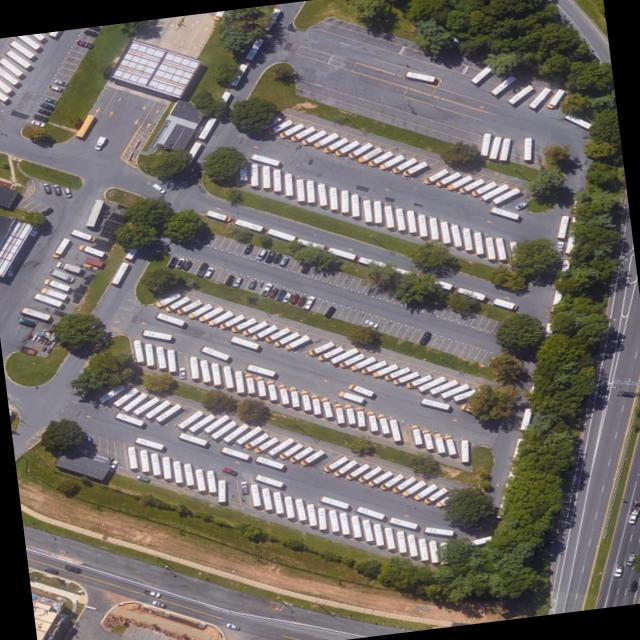large-vehicle: (82, 197, 105, 226), (176, 408, 204, 428), (203, 412, 230, 432), (506, 83, 533, 103), (97, 383, 125, 402), (132, 395, 160, 414), (154, 402, 182, 421), (527, 85, 551, 107), (491, 185, 520, 203), (144, 398, 170, 418), (490, 74, 516, 94), (188, 412, 215, 431), (235, 424, 262, 443), (112, 386, 139, 405), (250, 322, 278, 340), (481, 181, 509, 199), (469, 63, 494, 83), (210, 419, 236, 438), (222, 422, 248, 441), (121, 391, 147, 410), (563, 111, 592, 128), (267, 436, 294, 454), (312, 130, 339, 148), (300, 127, 327, 145), (428, 377, 458, 393), (5, 48, 30, 67), (391, 474, 416, 493), (8, 39, 34, 57), (401, 478, 427, 496), (299, 447, 325, 465), (344, 461, 370, 479), (422, 166, 448, 184), (329, 346, 358, 362), (244, 36, 264, 59), (241, 318, 268, 335), (263, 325, 290, 342), (206, 309, 233, 326), (197, 304, 224, 321), (186, 301, 213, 318), (163, 294, 190, 311), (401, 159, 428, 176), (470, 179, 497, 196), (228, 61, 247, 85), (197, 115, 216, 139), (75, 112, 94, 136), (347, 140, 372, 158), (288, 444, 313, 462), (332, 458, 357, 476), (357, 464, 382, 482), (379, 472, 404, 490), (412, 482, 437, 500), (422, 485, 447, 503), (306, 339, 334, 355), (337, 351, 365, 367), (265, 118, 293, 134), (417, 374, 445, 390), (154, 290, 180, 307), (356, 145, 382, 162), (391, 155, 417, 172), (278, 121, 304, 138), (243, 431, 269, 448), (252, 435, 278, 452), (322, 454, 348, 471), (322, 135, 348, 152), (200, 344, 229, 359), (33, 291, 62, 306), (440, 382, 469, 397), (489, 205, 520, 219), (218, 312, 245, 328), (272, 330, 299, 346), (283, 333, 310, 349), (317, 344, 344, 360), (367, 149, 394, 165), (289, 124, 316, 140), (349, 354, 376, 370), (371, 361, 398, 377), (446, 173, 473, 189), (434, 170, 461, 186), (278, 441, 303, 458), (334, 138, 359, 155), (229, 316, 257, 331), (346, 381, 374, 396), (20, 305, 50, 319), (114, 411, 144, 425), (359, 358, 387, 373), (383, 365, 411, 380), (391, 369, 419, 384), (0, 56, 22, 75), (378, 153, 404, 169), (367, 469, 393, 485), (458, 177, 484, 193), (262, 6, 280, 29), (155, 311, 184, 325), (220, 445, 249, 459), (255, 454, 284, 468), (254, 472, 283, 486), (355, 504, 384, 518), (134, 435, 163, 449), (326, 245, 355, 259), (452, 386, 481, 400), (266, 226, 295, 240), (175, 298, 202, 313), (405, 372, 432, 387), (387, 515, 418, 528), (51, 236, 70, 257), (546, 87, 565, 108), (77, 242, 105, 256), (111, 260, 128, 283), (455, 286, 485, 299), (39, 285, 66, 299), (230, 335, 259, 348), (250, 152, 279, 165), (178, 431, 207, 444), (320, 494, 349, 507), (357, 255, 386, 268), (420, 396, 449, 409), (234, 217, 263, 230), (70, 227, 96, 241), (295, 237, 325, 249), (43, 276, 70, 289), (54, 259, 81, 272), (246, 363, 275, 375), (404, 70, 435, 81), (337, 389, 363, 402), (205, 208, 231, 221), (50, 267, 74, 281), (491, 296, 517, 308), (0, 67, 18, 84), (488, 135, 501, 158), (556, 214, 569, 237), (450, 223, 463, 246), (142, 328, 171, 338), (260, 485, 272, 509), (443, 432, 456, 454), (361, 517, 373, 540), (372, 521, 384, 544), (498, 136, 510, 159), (388, 417, 400, 440), (272, 489, 283, 513), (338, 510, 349, 534), (350, 513, 361, 537), (396, 528, 407, 552), (520, 407, 532, 429), (416, 212, 427, 236), (366, 408, 378, 430), (199, 358, 210, 381), (155, 344, 166, 367), (294, 496, 305, 519), (194, 467, 205, 490), (249, 482, 260, 505), (283, 494, 294, 517), (306, 502, 317, 525), (327, 507, 338, 530), (406, 532, 417, 555), (417, 536, 428, 559), (427, 539, 438, 562), (149, 451, 160, 474), (205, 468, 216, 491), (394, 206, 405, 229), (383, 204, 394, 227), (439, 219, 450, 242), (495, 236, 506, 259), (484, 235, 495, 258), (461, 226, 472, 249), (410, 422, 422, 443), (377, 411, 389, 432), (182, 462, 193, 484), (223, 363, 233, 387), (406, 208, 416, 232), (428, 215, 438, 239), (424, 526, 453, 534), (277, 382, 288, 403), (288, 385, 299, 406), (422, 427, 433, 448), (434, 431, 445, 452), (321, 395, 332, 416), (333, 401, 344, 422), (210, 361, 220, 384), (233, 369, 243, 392), (132, 338, 142, 361), (384, 525, 394, 548), (161, 455, 171, 478), (473, 230, 483, 253), (166, 348, 176, 370), (295, 178, 305, 200), (126, 445, 136, 467), (255, 375, 266, 395), (266, 379, 277, 399), (310, 393, 321, 413), (480, 132, 490, 154), (328, 185, 337, 209), (300, 388, 310, 409), (345, 402, 355, 423), (305, 178, 314, 201), (272, 167, 281, 190), (249, 162, 258, 185), (317, 506, 326, 529), (372, 199, 381, 222), (460, 438, 469, 461), (363, 198, 372, 221), (340, 188, 349, 211), (355, 405, 365, 425), (189, 355, 198, 377), (144, 342, 153, 364), (283, 172, 292, 194), (172, 459, 181, 481), (139, 448, 148, 470), (350, 193, 359, 215), (317, 182, 326, 204), (262, 163, 270, 187), (245, 371, 254, 392), (217, 478, 225, 501), (523, 136, 531, 159), (0, 79, 12, 92), (0, 91, 7, 101)
small-vehicle: (195, 261, 209, 276), (36, 99, 55, 110), (16, 316, 36, 326), (32, 105, 52, 115), (63, 562, 81, 573), (418, 330, 432, 344), (627, 506, 638, 523), (93, 135, 106, 149), (259, 282, 273, 295), (303, 294, 315, 309), (220, 465, 238, 475), (75, 37, 93, 47), (38, 205, 54, 216), (150, 181, 166, 192), (80, 27, 98, 36), (363, 317, 379, 327), (323, 305, 336, 317), (625, 551, 636, 565), (612, 562, 623, 576), (224, 621, 241, 630), (513, 200, 528, 210), (107, 459, 119, 471), (150, 598, 166, 607), (33, 112, 49, 121), (264, 250, 276, 262), (255, 247, 267, 259), (167, 255, 179, 267), (42, 565, 59, 573), (143, 588, 160, 596), (275, 288, 286, 300), (242, 242, 254, 253), (555, 239, 565, 252), (29, 118, 45, 126), (289, 292, 300, 303), (278, 254, 289, 265), (232, 275, 243, 286), (181, 259, 192, 270), (174, 256, 185, 267), (135, 473, 150, 481), (628, 579, 638, 591), (53, 182, 62, 195), (240, 479, 248, 493), (267, 286, 278, 296), (281, 291, 292, 301), (296, 295, 306, 306), (271, 252, 282, 262), (203, 266, 214, 276), (42, 181, 51, 193), (53, 78, 68, 85), (43, 96, 58, 103), (224, 274, 234, 284), (63, 186, 72, 197), (49, 83, 63, 90), (178, 365, 186, 377), (248, 278, 257, 288)
